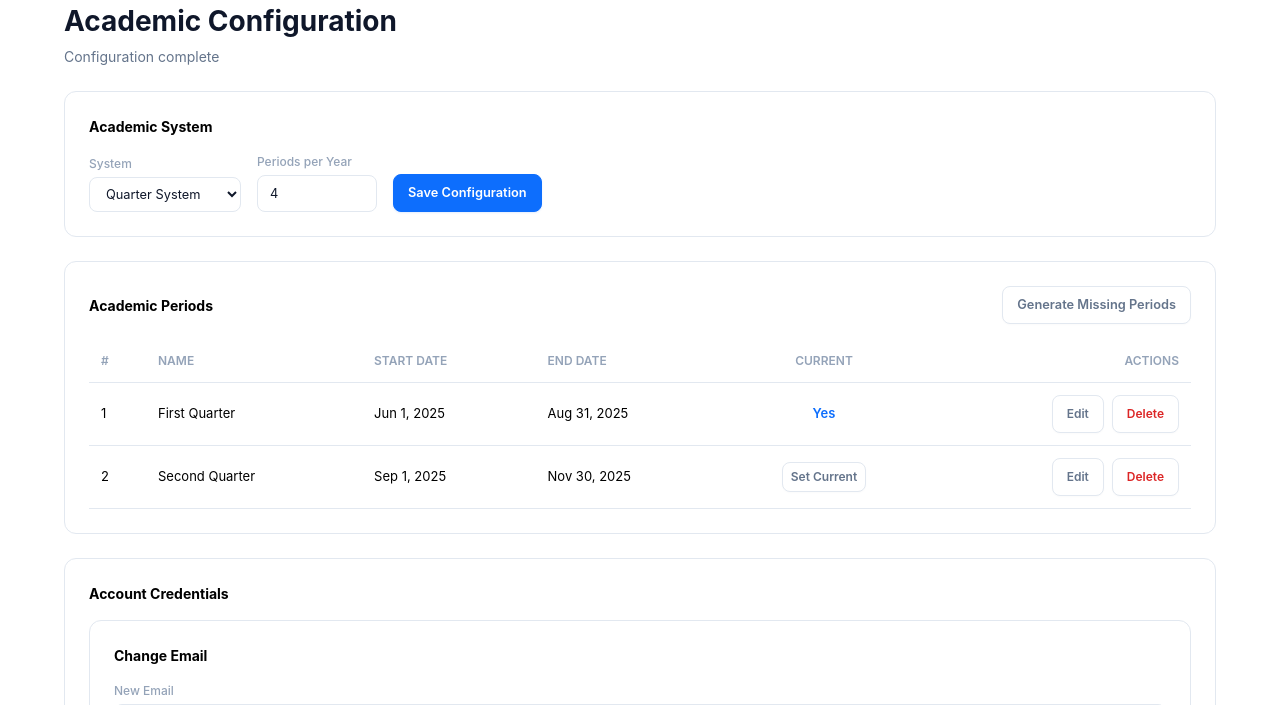
SchoolSettings › saves the academic system and period count
Expected: the text "First Quarter" is shown, [146,383,362,446]
Select "Semester System" in the dropdown showing "Quarter System" at (165, 195), box [89,177,241,212]
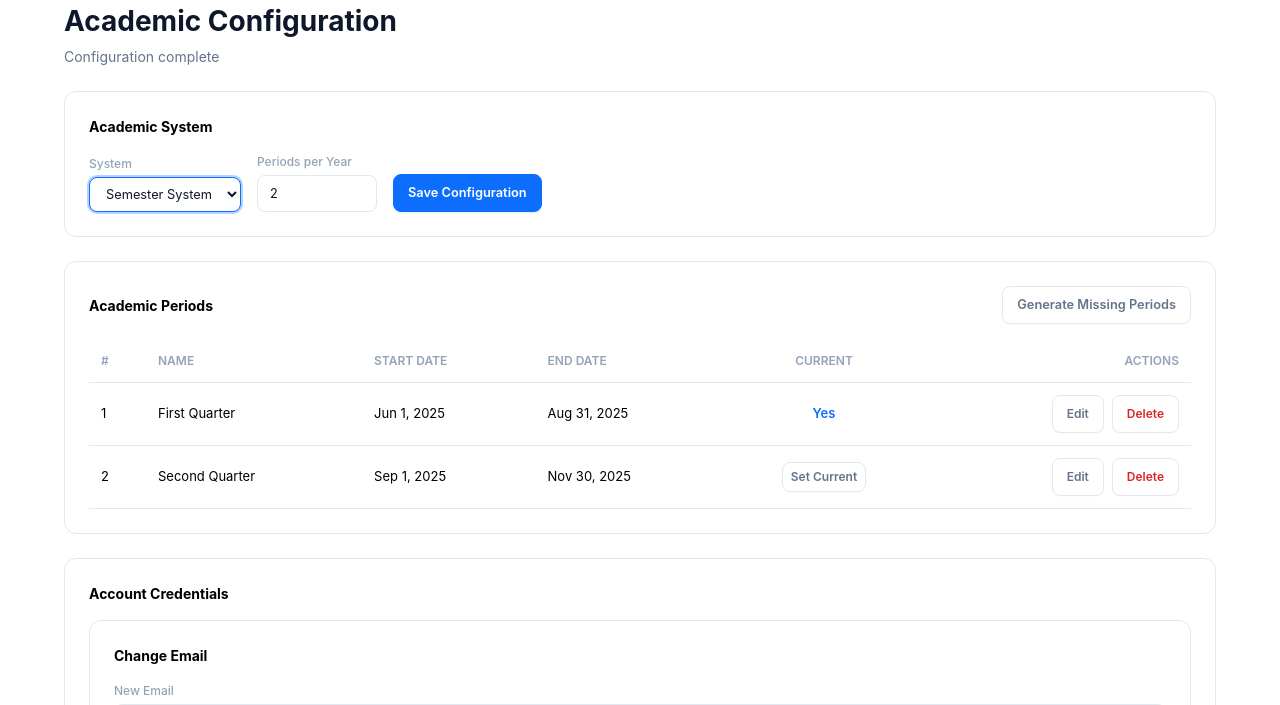
Replace the text in the number field showing "2" with "3" at (317, 194), box [257,175,377,212]
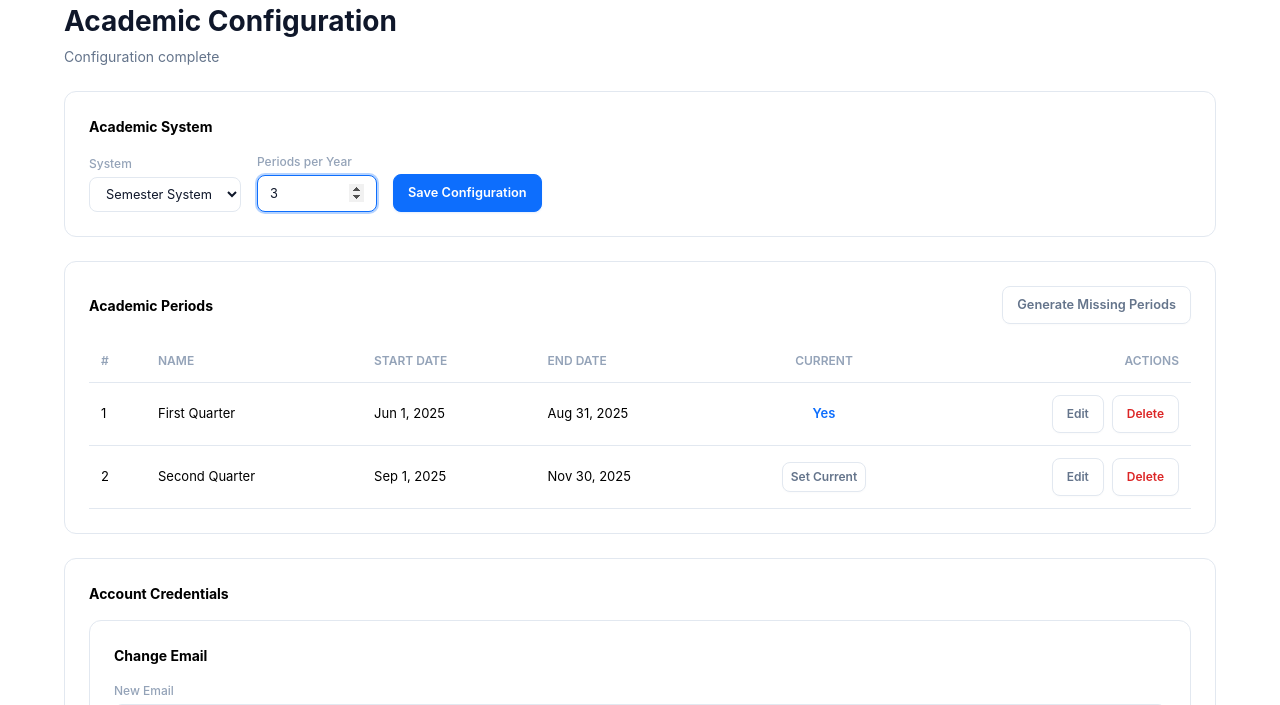
Click the button "Save Configuration" at (467, 193), box [393,174,542,212]
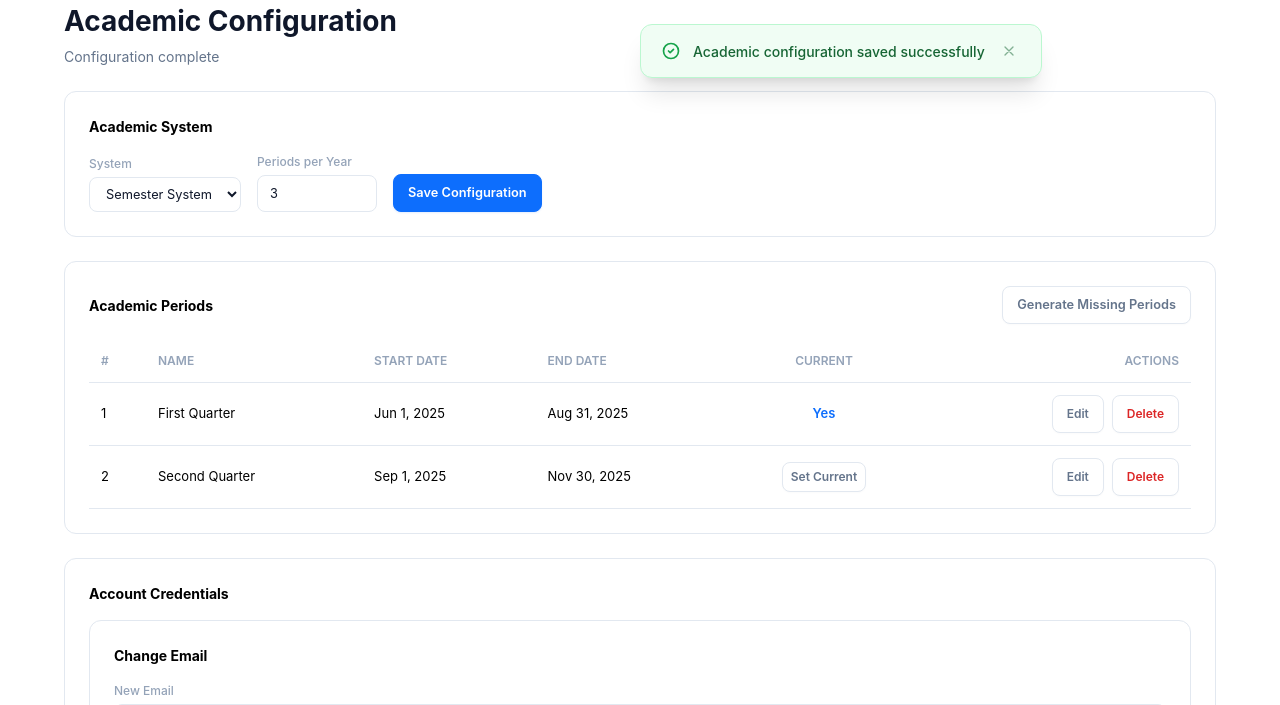
Result: the text "Academic configuration saved successfully" is shown at [693,40,985,62]
